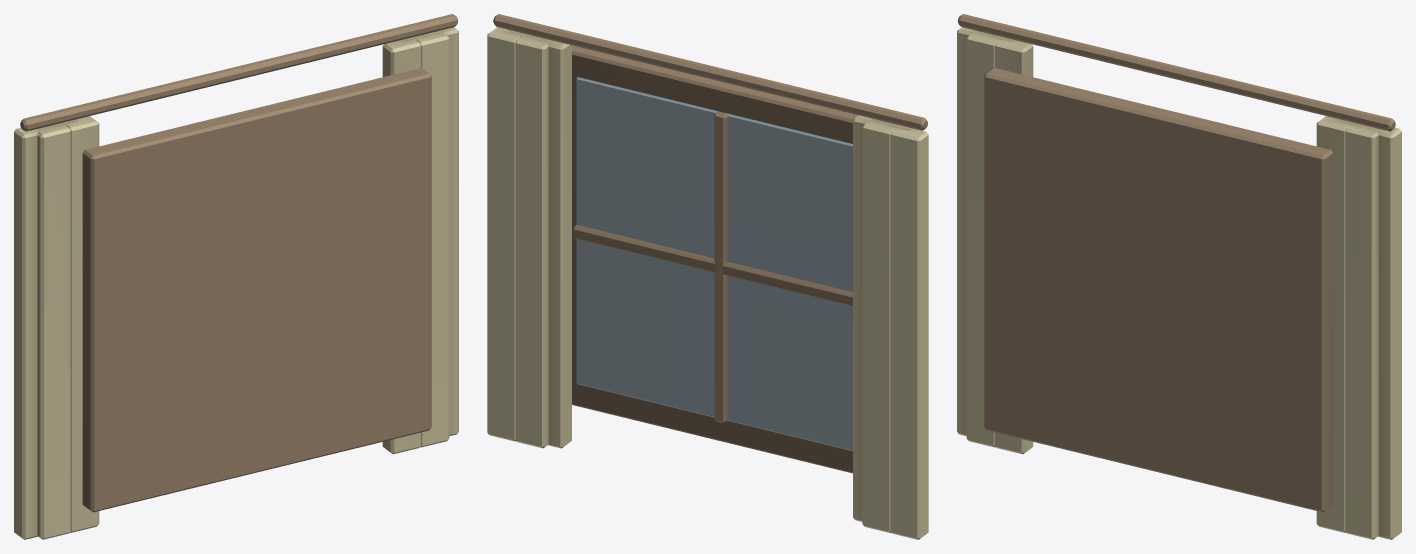
File: furn_curtain_window__butter.glb
3 views of the same model, side by side, from view 1: azimuth 30°, elevation 25°; view 2: azimuth 150°, elevation 25°; view 3: azimuth 330°, elevation 25° (orthographic).
Bounding box in the file's own units: 1.41 × 1.29 × 0.175.
